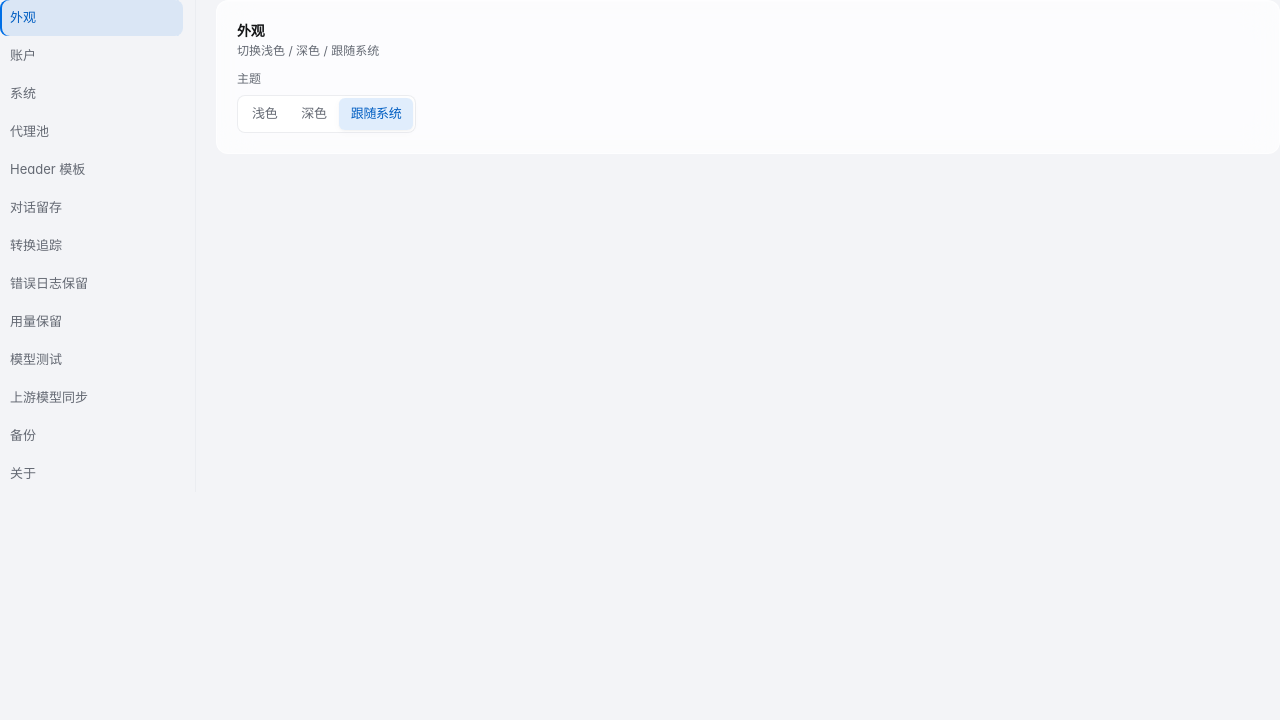
Test: <SettingsPage /> 调用客户端统计 › 显示全部条目而非截断 20 条
The image size is (1280, 720).
Click the button "关于" at (92, 474), box [0,456,183,492]
(page scrolled)
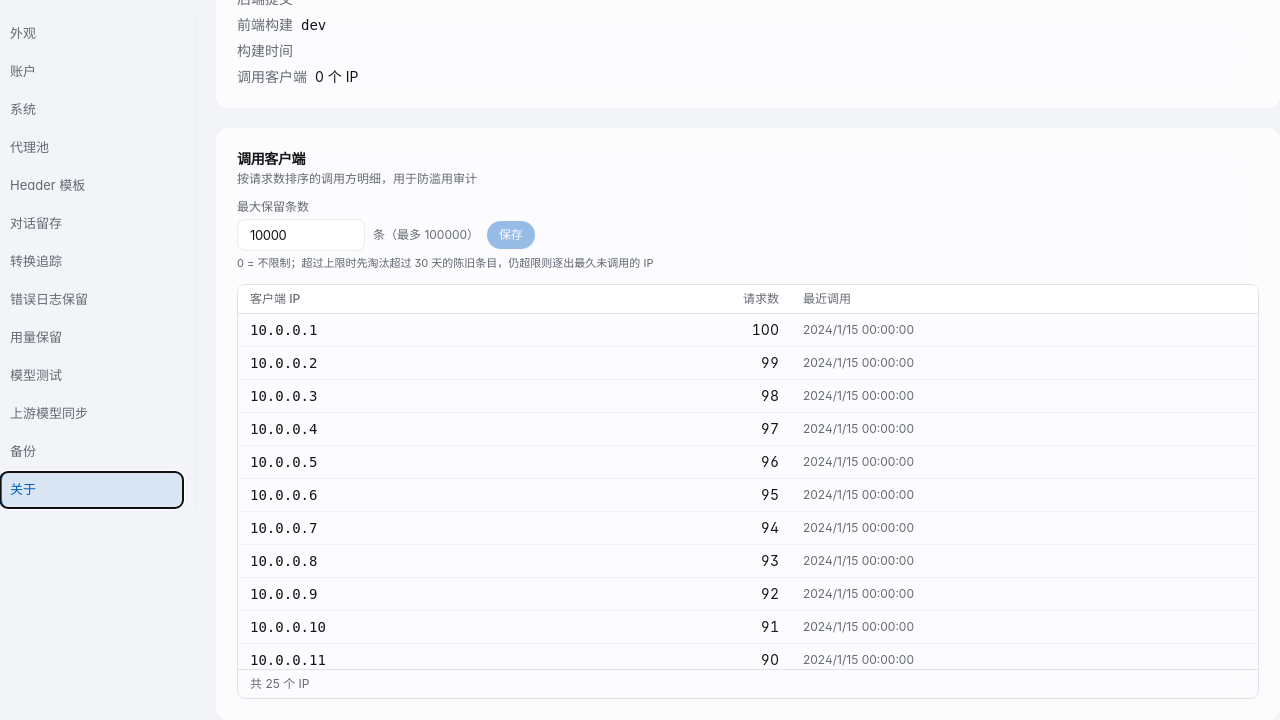
Expected: the text "10.0.0.1" is shown, [238,313,583,346]
Expected: the text "共 25 个 IP" is shown, [238,668,1258,698]
